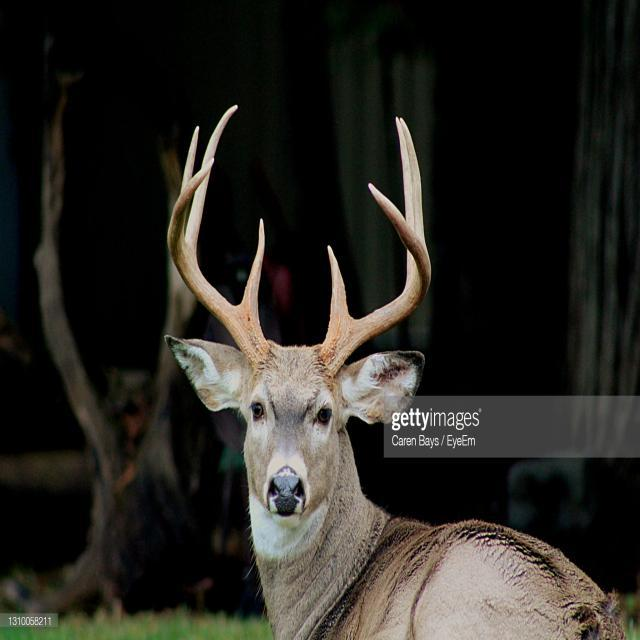L-F: (320, 182, 431, 378)
L-G1: (327, 244, 354, 335)
R-F: (167, 158, 267, 370)
R-G1: (237, 218, 265, 322)
